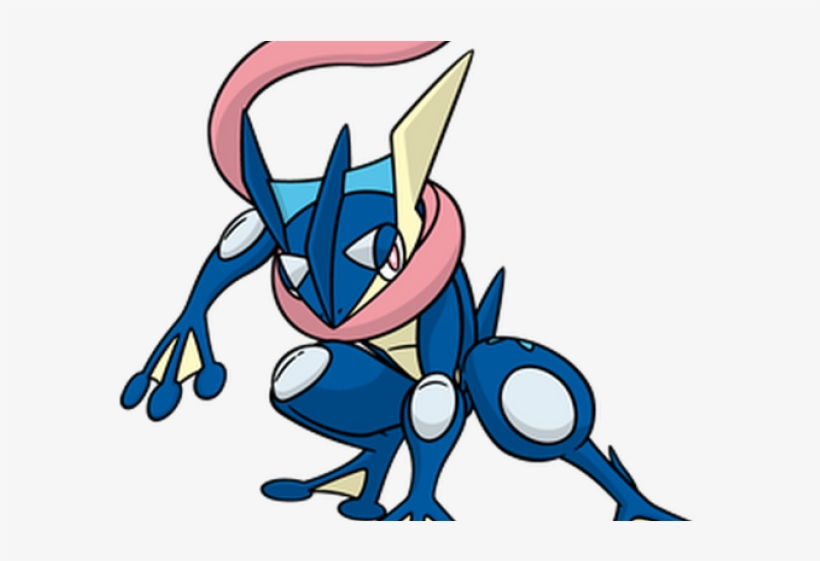greninja: (115, 32, 704, 522)
